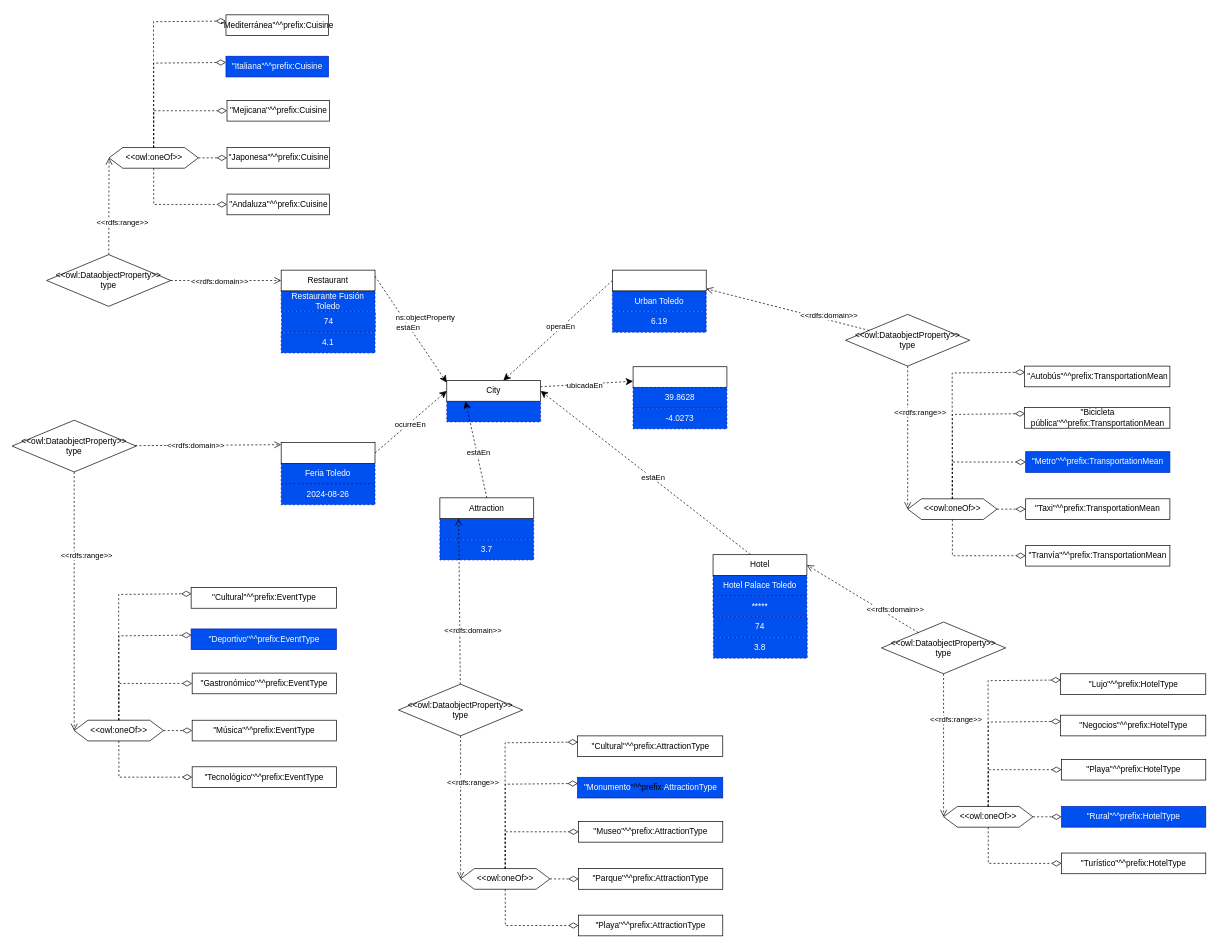
The diagram is 1218 pixels wide and 948 high, and some of its shapes have lost their labels. The shapes that lost their labels are listed below. From the top down, each one's centre as x and y in pixels, then its label:
[659,280]: Transport
[679,376]: GeographicPoint
[493,411]: TOLEDO
[327,452]: Event
[486,528]: Castillo Toledo
